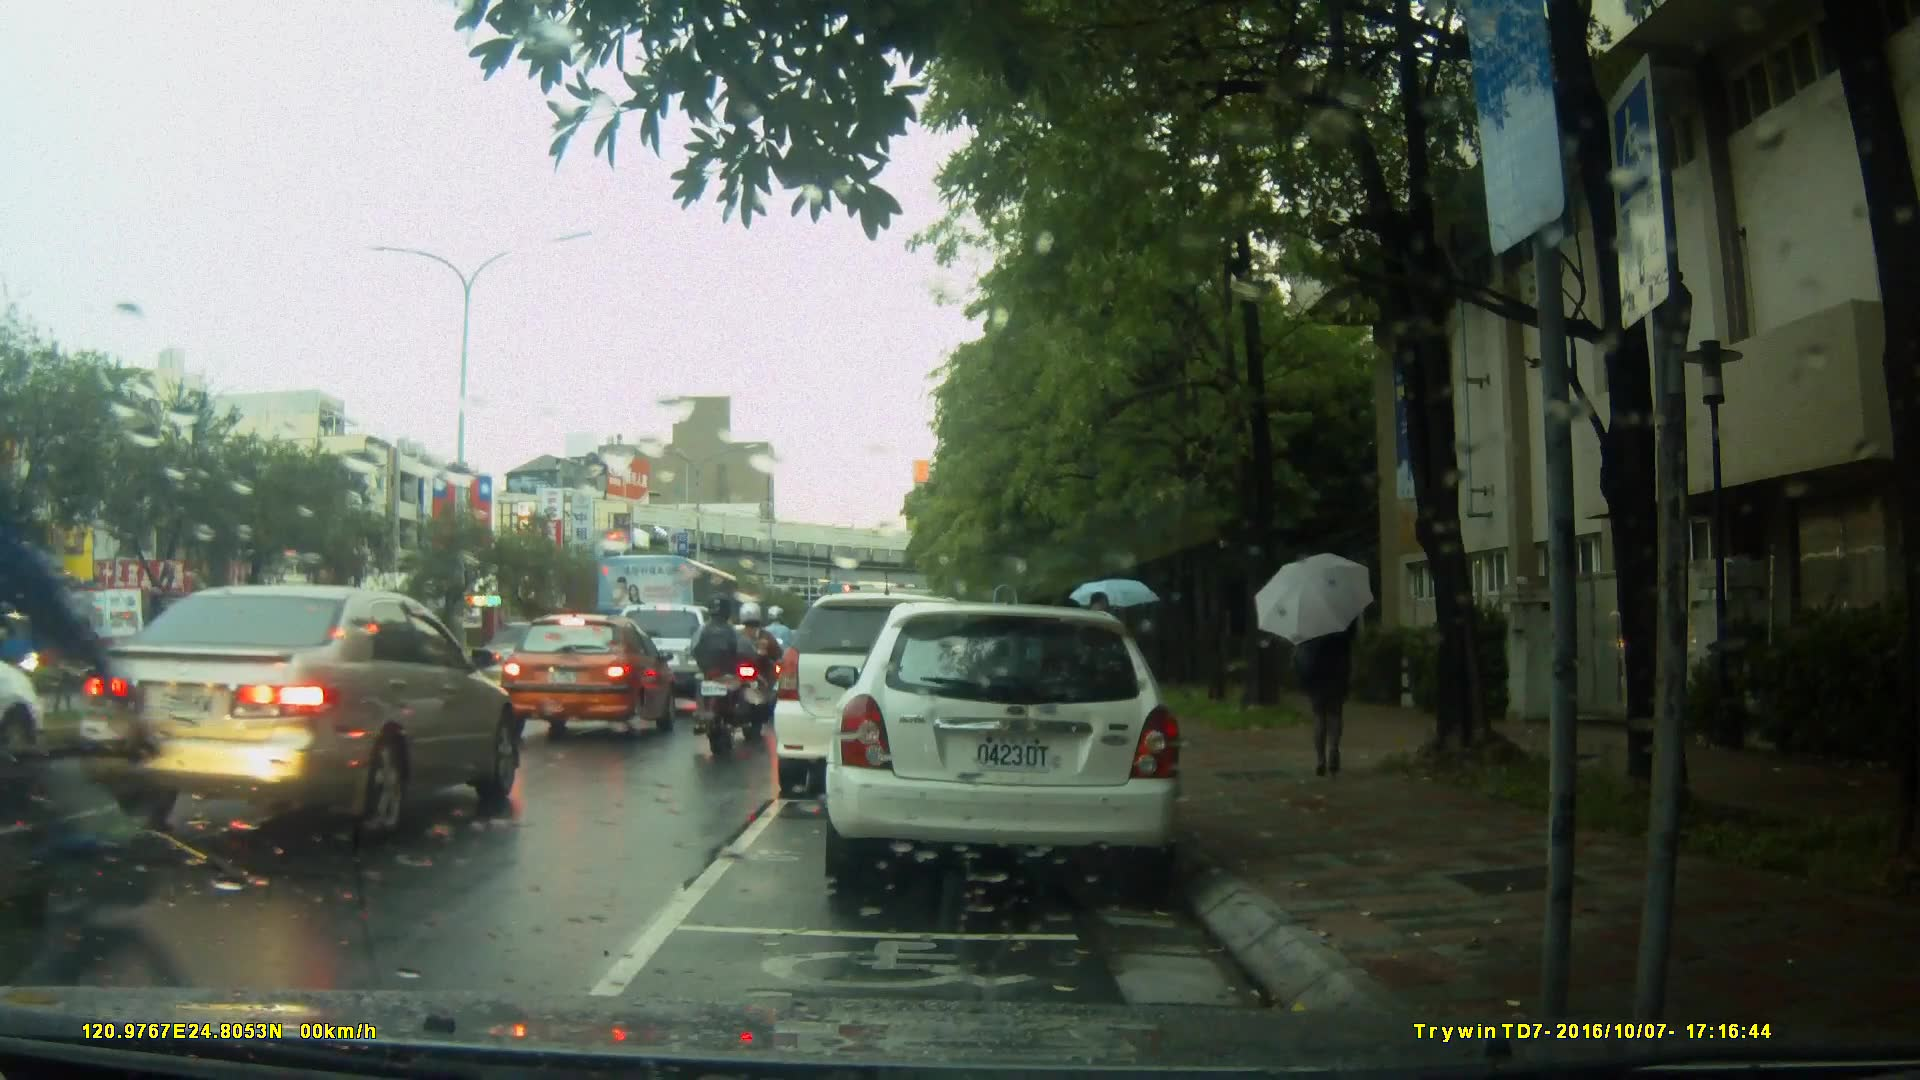pedestrian: (1283, 564, 1374, 780), (1091, 579, 1131, 760)
rider: (1, 365, 203, 1080), (694, 596, 760, 764), (736, 601, 784, 747), (754, 603, 798, 713)
vehicle: (73, 583, 527, 845), (835, 594, 1194, 898), (776, 590, 1026, 784), (501, 613, 673, 733), (593, 552, 748, 672)
